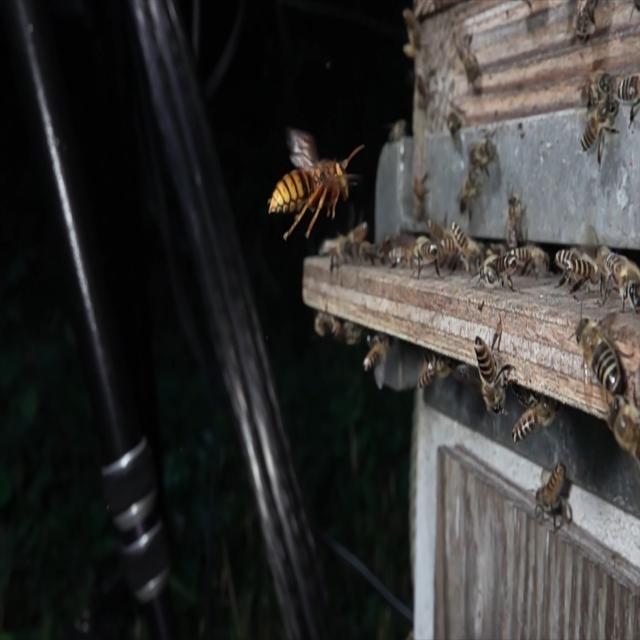Bees: (568, 304, 634, 405), (476, 315, 514, 423), (536, 461, 572, 532), (512, 393, 560, 446), (580, 98, 618, 162), (603, 249, 640, 314), (470, 253, 521, 296)
Hornets: (266, 127, 365, 241)
